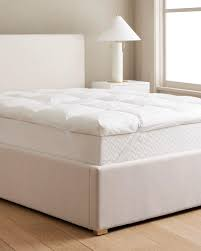bed-matress: (1, 86, 201, 166)
